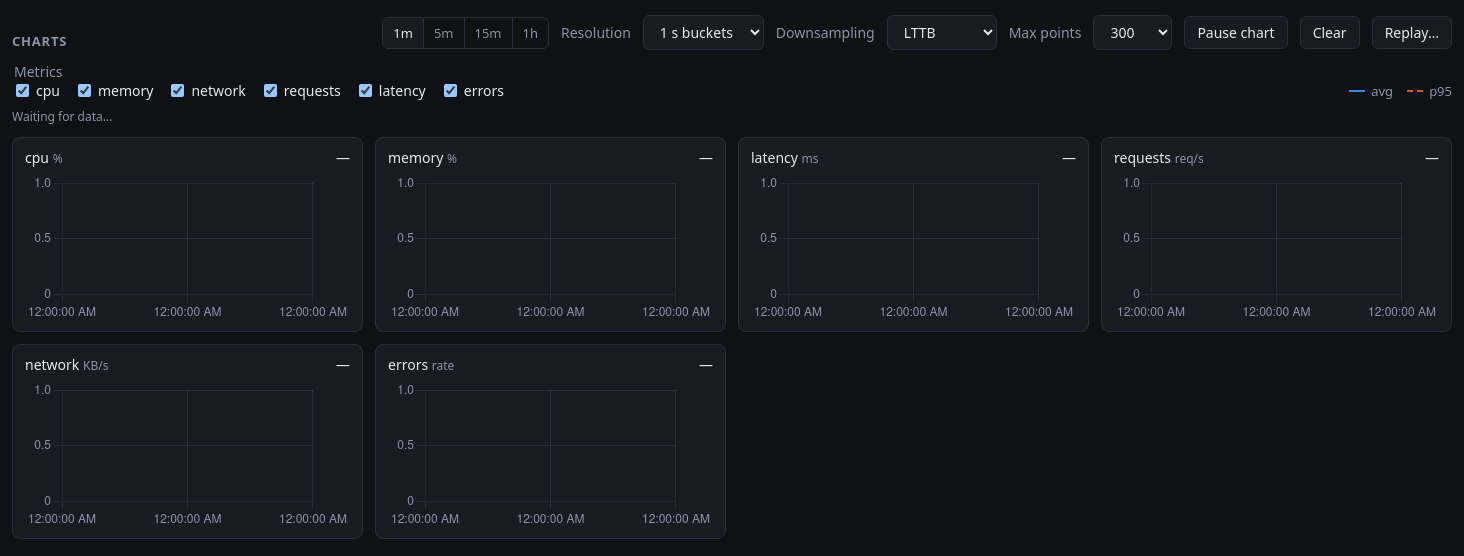
Scenario: ChartPanel (WBS 7, 18.2) › pause / resume toggles the button state and the paused notice
Click the button "Pause chart": (1236, 32) [1184, 16, 1288, 49]
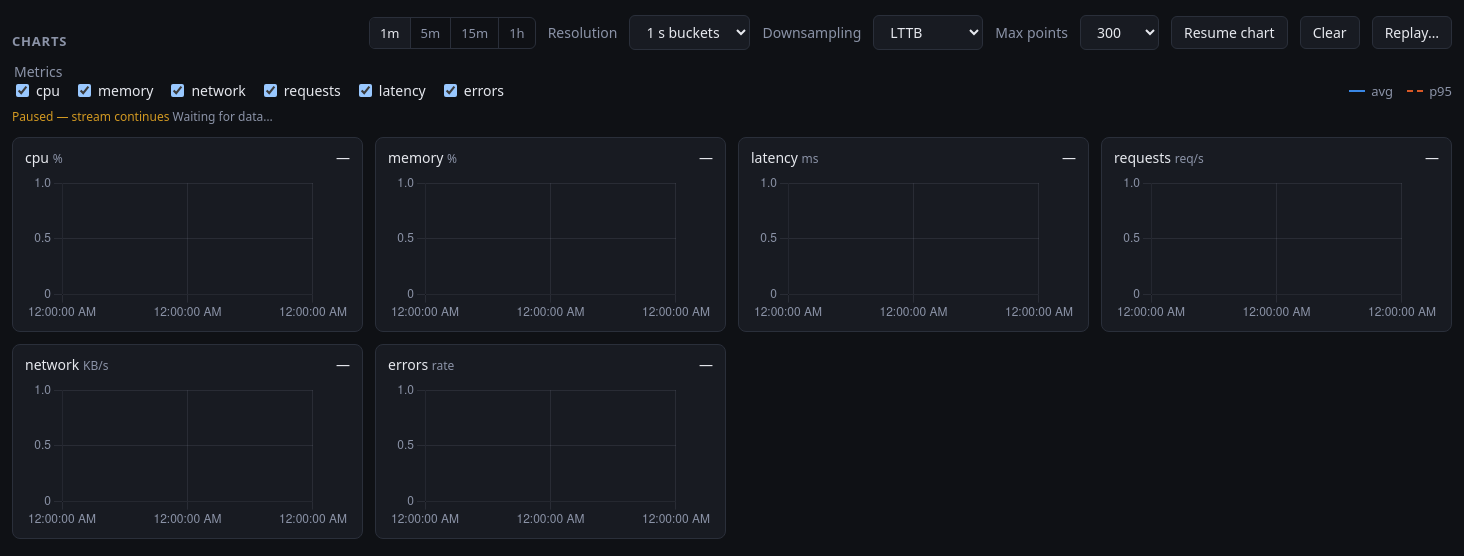
Expected: the text "Paused — stream continues" is shown, [12, 108, 172, 125]
Click the button "Resume chart": (1229, 32) [1171, 16, 1288, 49]
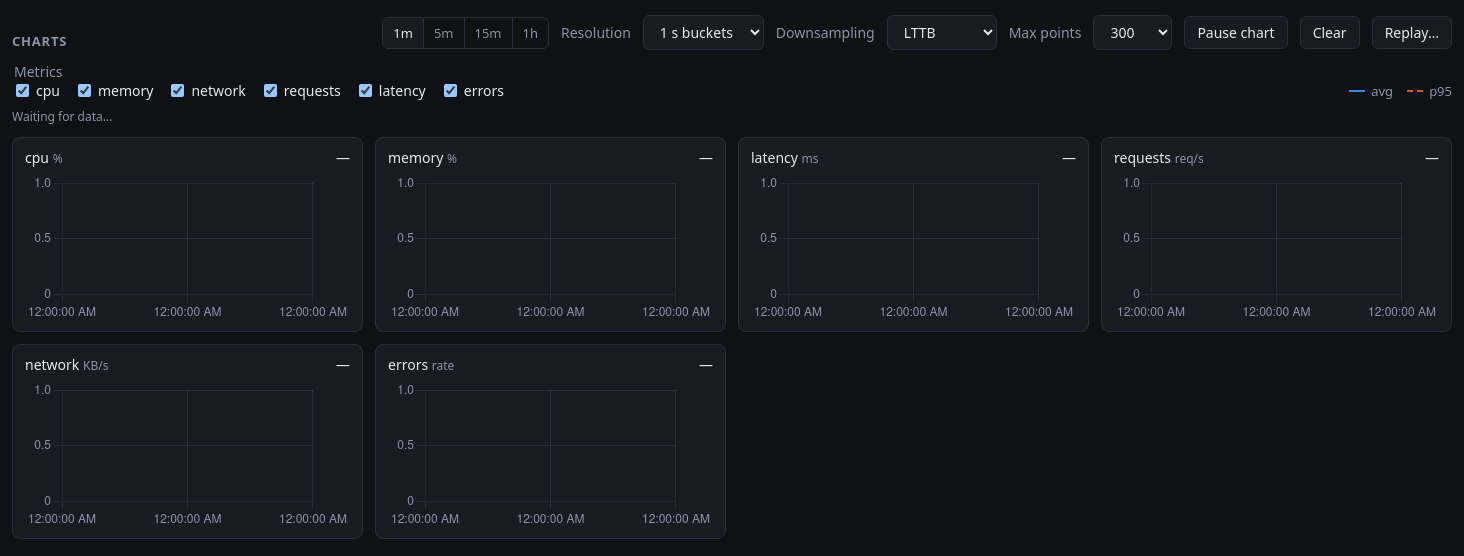
Expected: the text "Paused — stream continues" is gone
